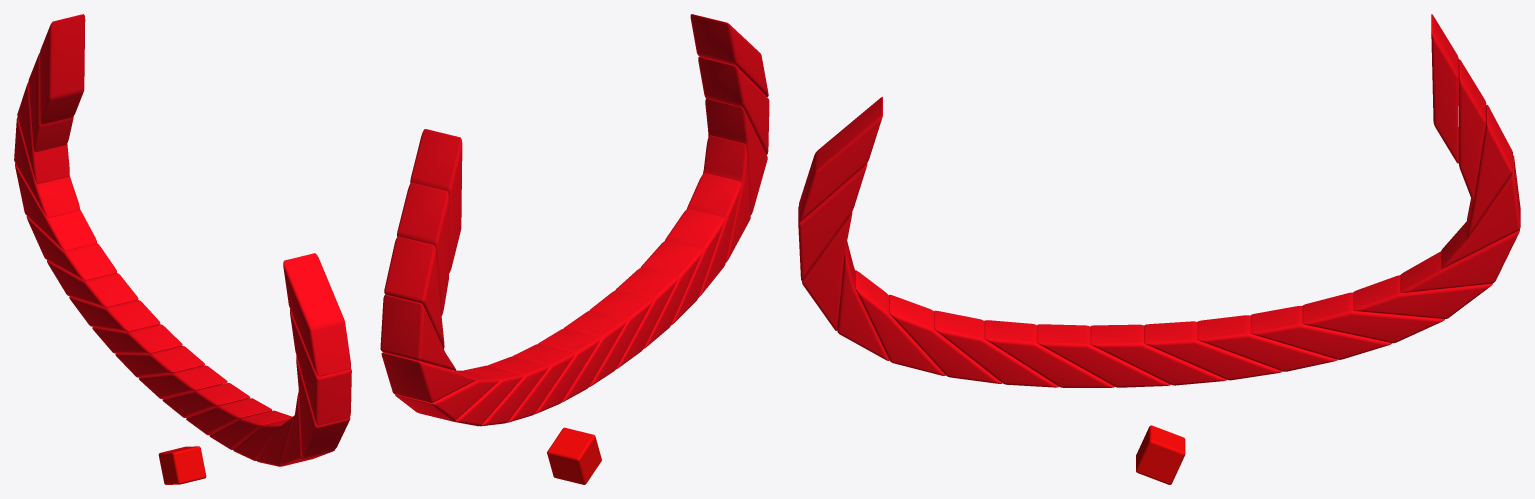
3 views of the same model, side by side, from view 1: azimuth 30°, elevation 25°; view 2: azimuth 150°, elevation 25°; view 3: azimuth 270°, elevation 25° (orthographic). The views are drawn at different scales.
Parts seen in each view (by area): view 1: Cube, Cube.001; view 2: Cube, Cube.001; view 3: Cube, Cube.001.
Boxes of the visible parts, bbox=[...] form: Cube: bbox=[14, 14, 351, 466]; Cube.001: bbox=[158, 446, 206, 484]; Cube: bbox=[380, 14, 769, 426]; Cube.001: bbox=[547, 427, 601, 484]; Cube: bbox=[798, 14, 1520, 387]; Cube.001: bbox=[1136, 425, 1185, 484].
Size of the model in its own units: 50 by 514 by 739.
